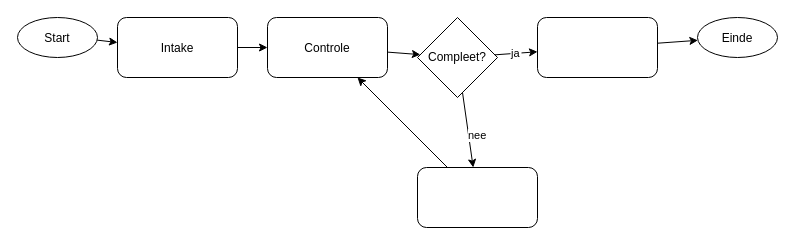
The diagram is 795 pixels wide and 245 high, and some of its shapes have lost their labels. The shapes that lost their labels are listed below. From the top down, each one's centre as x and y in pixels, then its label:
(597,47): Toekennen
(477,197): Aanvullen
